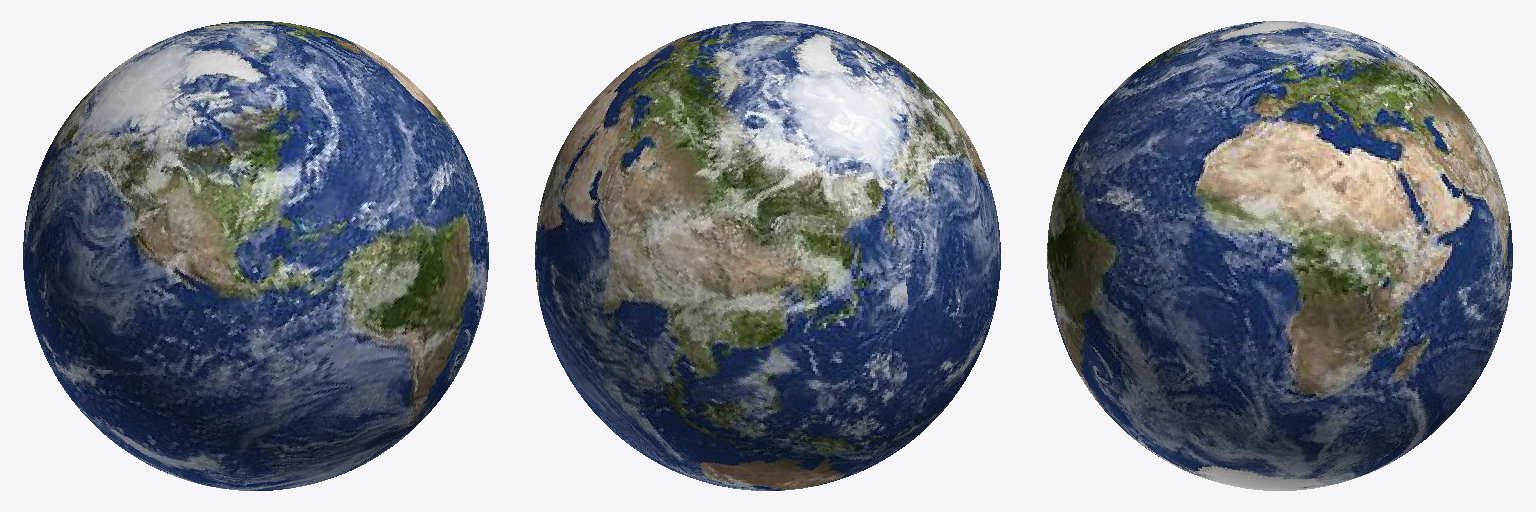
The picture shows the model from 3 angles: view 1: azimuth 30°, elevation 25°; view 2: azimuth 150°, elevation 25°; view 3: azimuth 270°, elevation 25°; orthographic projection.
Visible parts, largest first — view 1: Sphere; view 2: Sphere; view 3: Sphere.
Part boxes in pixels (x1,y1,x2,y2): Sphere: (23,21,488,490); Sphere: (535,21,1000,490); Sphere: (1047,21,1512,490).
Bounding box in the file's own units: 1.96 × 1.96 × 1.96.
Materials: 1 (1 with a texture image).